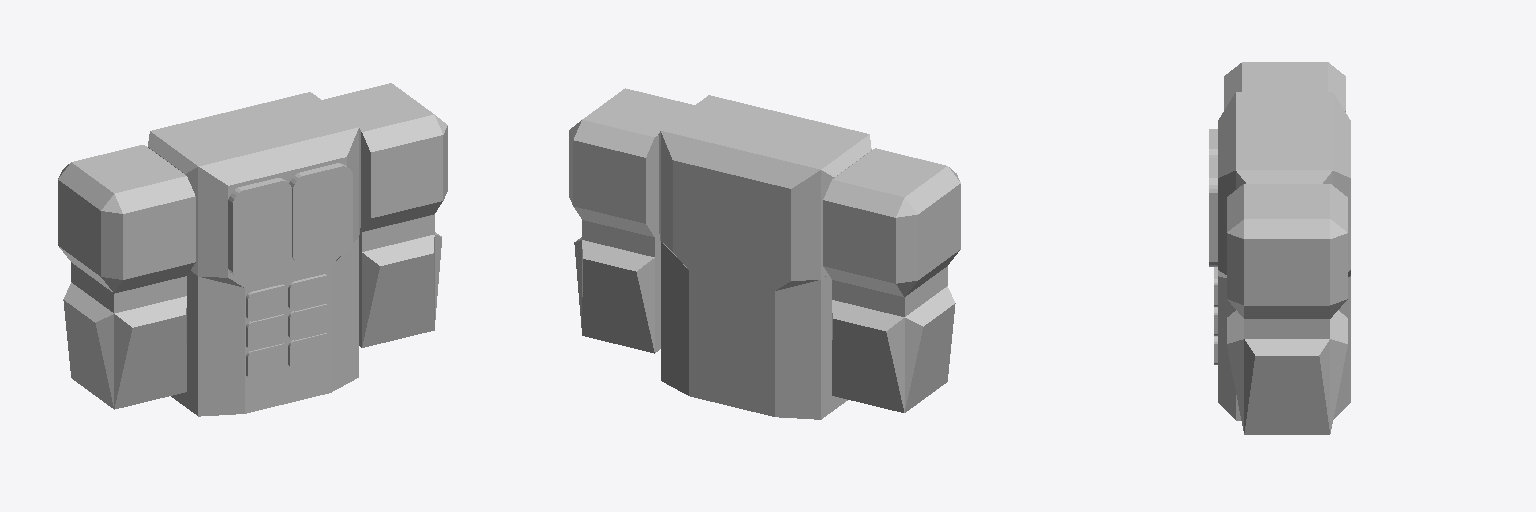
The model's file is multi_chestplate.obj.
3 views of the same model, side by side, from view 1: azimuth 30°, elevation 25°; view 2: azimuth 150°, elevation 25°; view 3: azimuth 270°, elevation 25° (orthographic).
Visible parts, largest first — view 1: Cube.002, Cube.003, Cube.000; view 2: Cube.002, Cube.003, Cube.000; view 3: Cube.000, Cube.002, Cube.003.
Part boxes in pixels (left/top/right/bottom): Cube.002: left=148, top=92, right=360, bottom=416; Cube.003: left=58, top=145, right=195, bottom=409; Cube.000: left=322, top=83, right=447, bottom=347; Cube.002: left=658, top=95, right=871, bottom=419; Cube.003: left=823, top=148, right=960, bottom=412; Cube.000: left=569, top=88, right=694, bottom=353; Cube.000: left=1227, top=184, right=1347, bottom=434; Cube.002: left=1209, top=92, right=1350, bottom=420; Cube.003: left=1224, top=62, right=1345, bottom=111.
Bounding box in the file's own units: 1.14 × 0.7812 × 0.4.